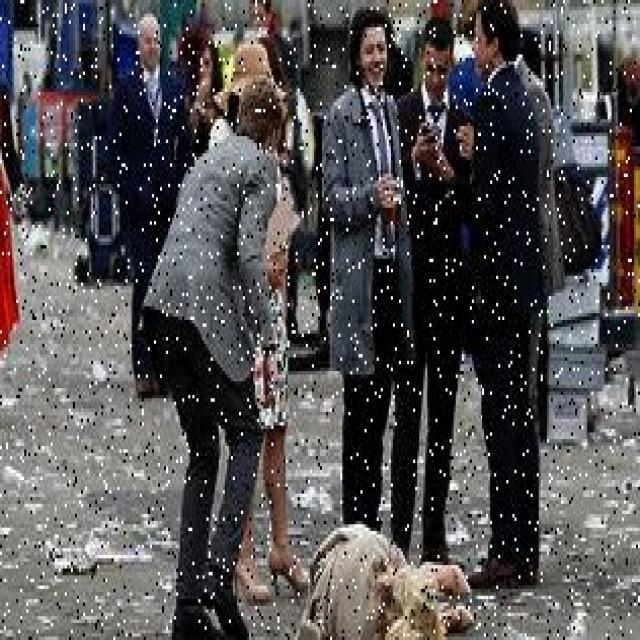fall: (290, 520, 484, 636)
